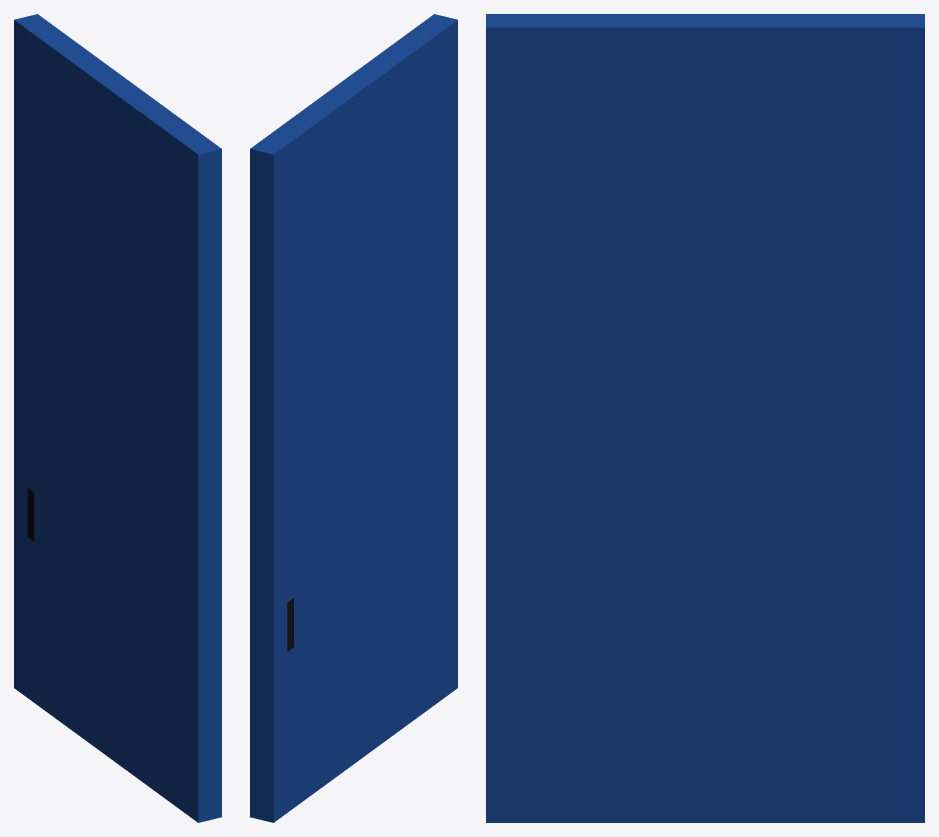
File: high_roof_van_rear_door.glb
The picture shows the model from 3 angles, left to right: view 1: azimuth 30°, elevation 25°; view 2: azimuth 150°, elevation 25°; view 3: azimuth 270°, elevation 25°; orthographic projection. The views are drawn at different scales.
Parts seen in each view (by area): view 1: body:compound; view 2: body:compound; view 3: body:compound.
Part boxes in pixels (left/top/right/bottom): body:compound: left=14, top=14, right=221, bottom=822; body:compound: left=250, top=14, right=457, bottom=822; body:compound: left=486, top=14, right=924, bottom=822.
Bounding box in the file's own units: 0.0625 × 1.69 × 0.8438.
